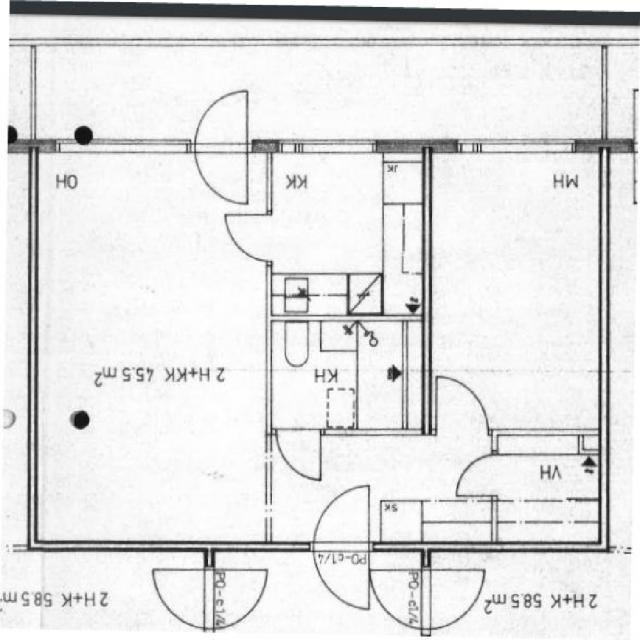door: (313, 542, 369, 612), (313, 480, 369, 550), (195, 143, 247, 209), (195, 86, 247, 152), (436, 372, 488, 435), (276, 428, 320, 484), (224, 215, 271, 260), (453, 455, 497, 496)
